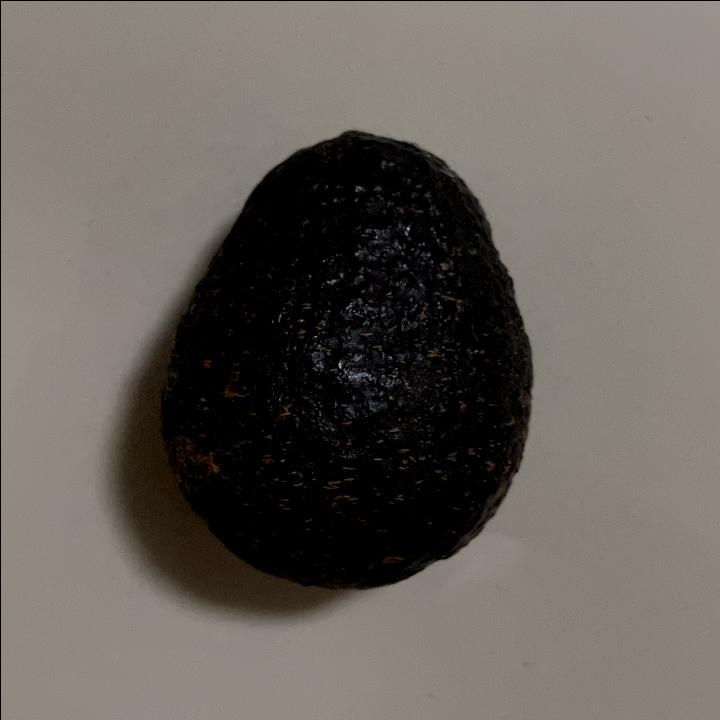Level3: (148, 120, 550, 596)
